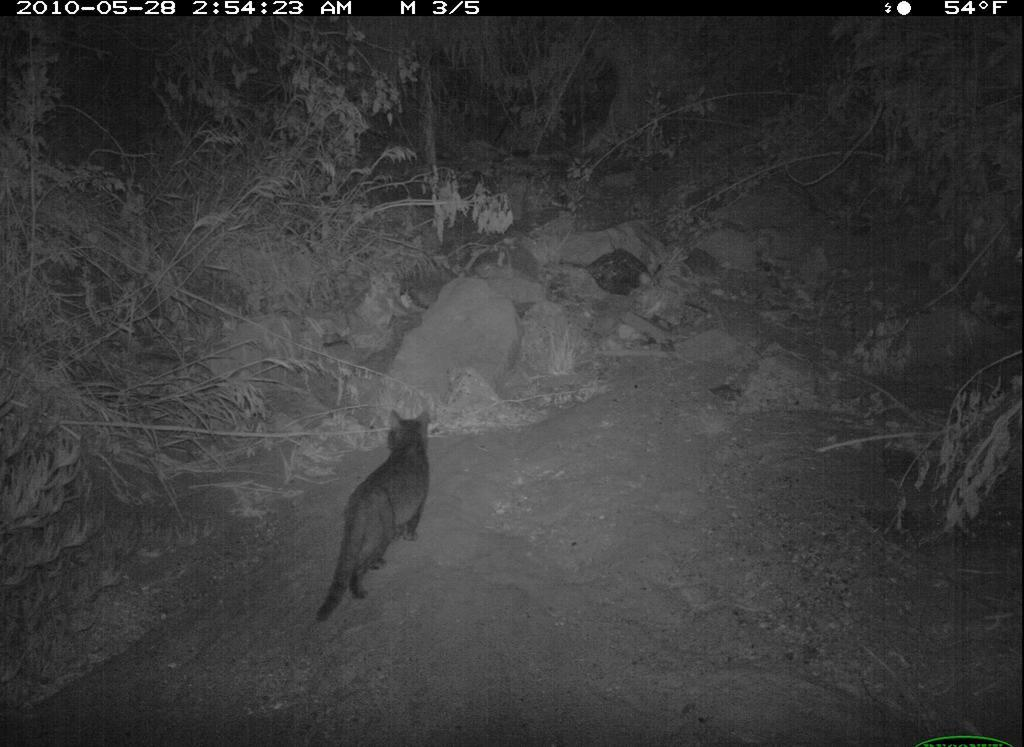cat: (308, 408, 449, 632)
